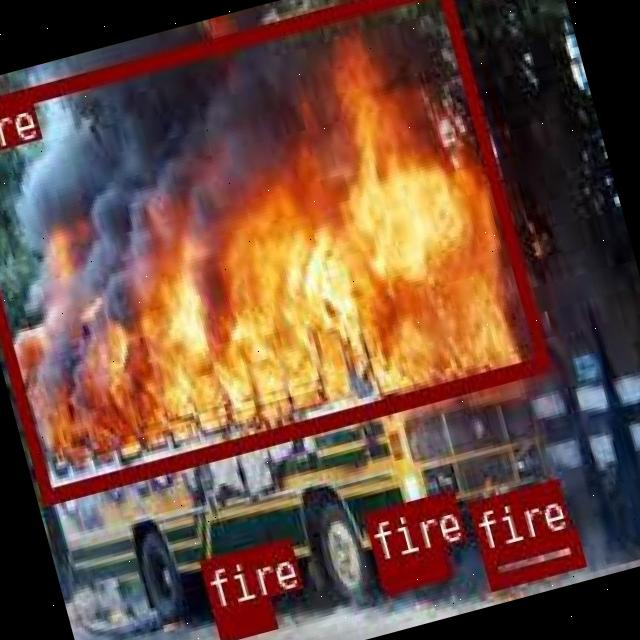fire: (0, 0, 547, 502), (479, 528, 581, 586), (375, 546, 450, 590), (212, 596, 274, 640)
